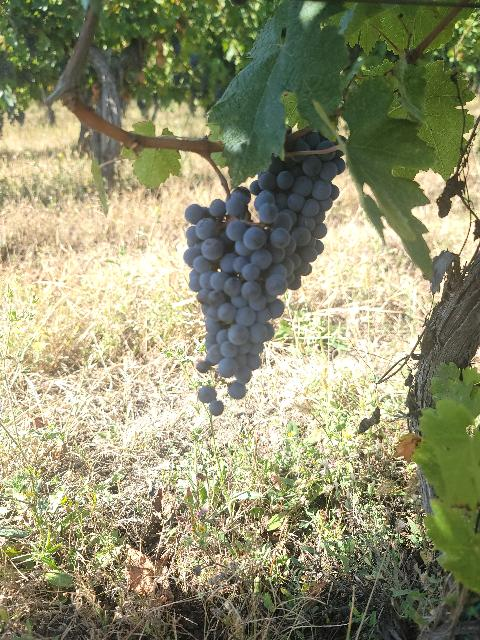grapes: (184, 186, 288, 400), (250, 131, 346, 289)
